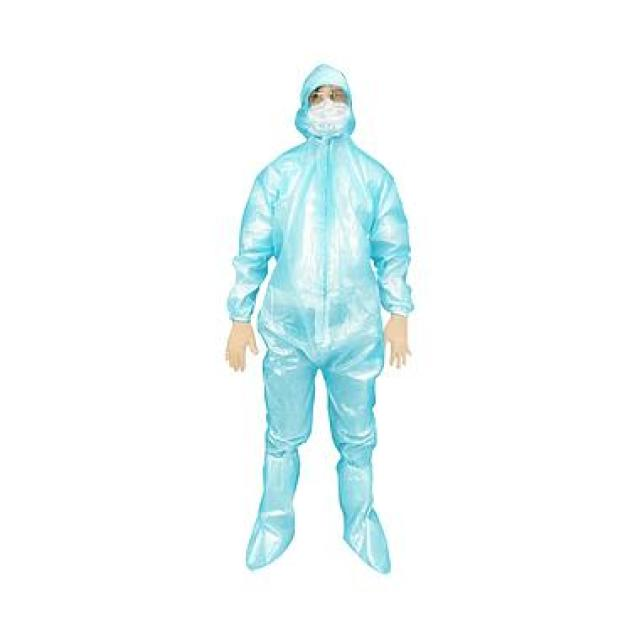Coverall: (182, 25, 438, 640)
Gloves: (214, 317, 283, 369), (379, 300, 408, 369)
Goggles: (286, 73, 364, 106)
Mask: (300, 96, 364, 147)
